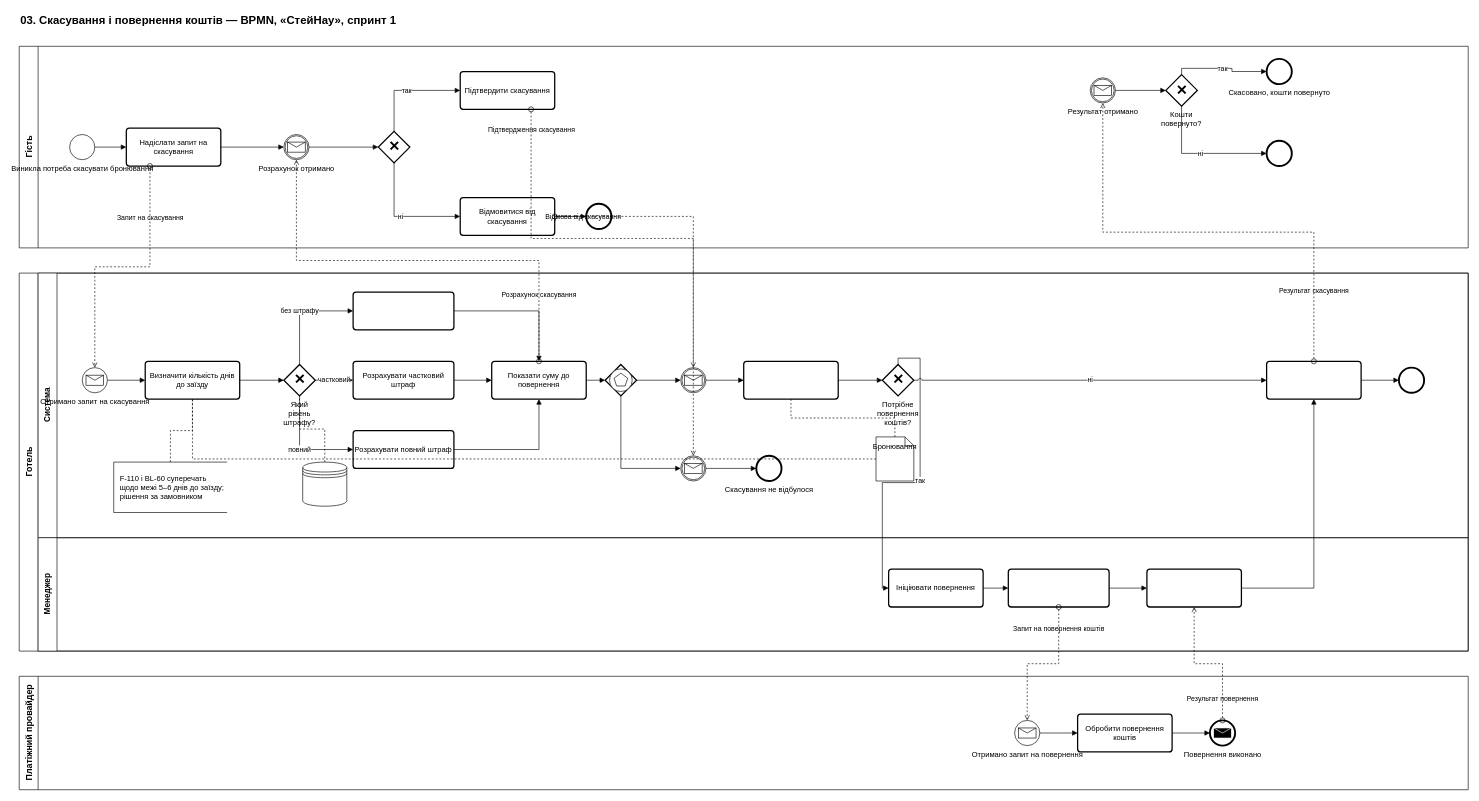
Some shapes in this 1479 by 801 pixel diagram are drawn without their labels. The shapes that lost their labels are listed below. From the top down, each one's box as (x1, y1, x2, y2) in pixels, then its label:
(377, 130, 410, 163): Підтвердити скасування?
(1266, 140, 1292, 166): Скасовано без повернення
(586, 203, 611, 229): Гість передумав
(352, 291, 454, 330): Розрахувати скасування без штрафу
(604, 364, 637, 396): Яка відповідь гостя?
(680, 367, 706, 393): Отримано підтвердження скасування
(743, 360, 839, 399): Звільнити номер
(1266, 360, 1361, 399): Надіслати повідомлення гостю
(1398, 367, 1424, 393): Скасування оброблено
(302, 461, 347, 506): Тарифи і політика скасування
(680, 455, 706, 481): Отримано відмову від скасування
(1007, 568, 1109, 607): Надіслати запит платіжному провайдеру
(1146, 568, 1242, 607): Отримати результат повернення
